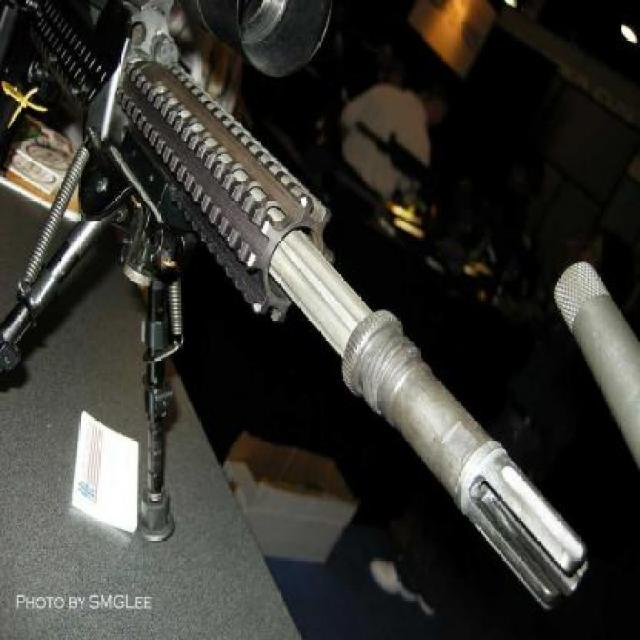weapon: (0, 0, 587, 619)
